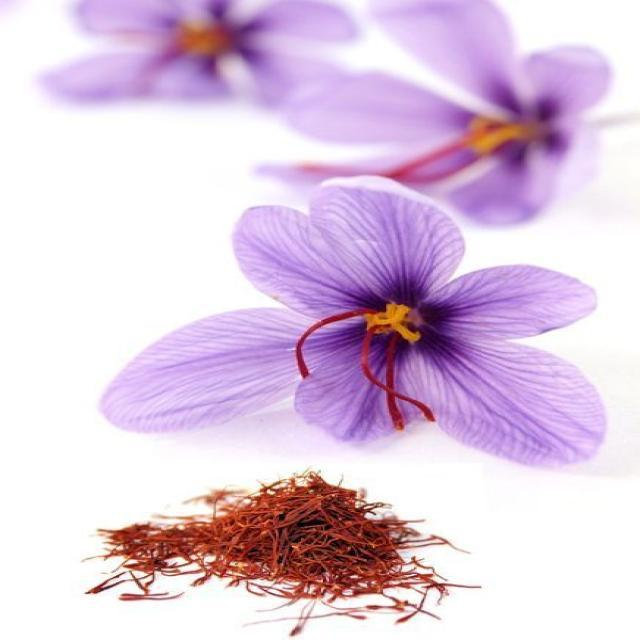Flower: (101, 177, 604, 465)
stigma: (356, 322, 438, 426), (293, 304, 373, 381), (382, 331, 410, 430)
